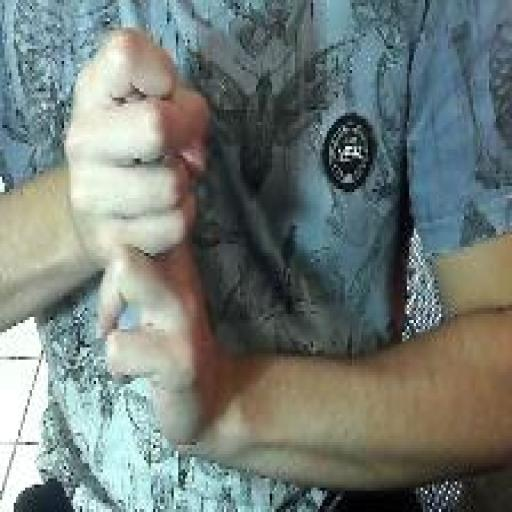Ne -rat-: (62, 24, 222, 458)
